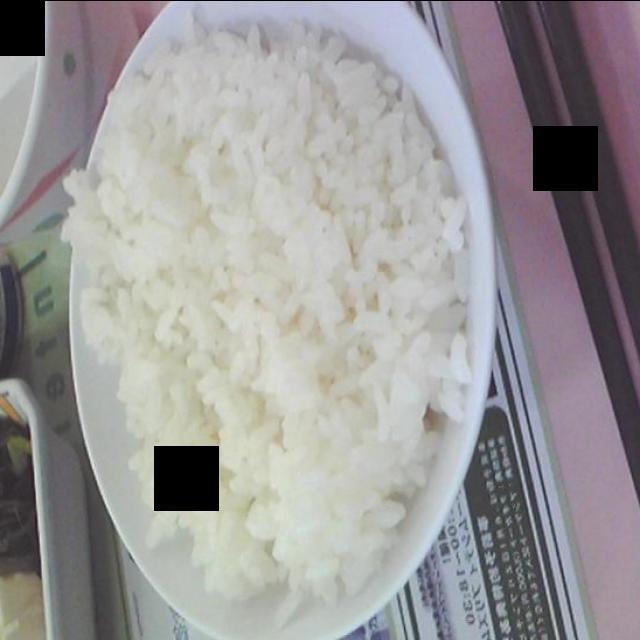rice: (63, 28, 475, 598)
